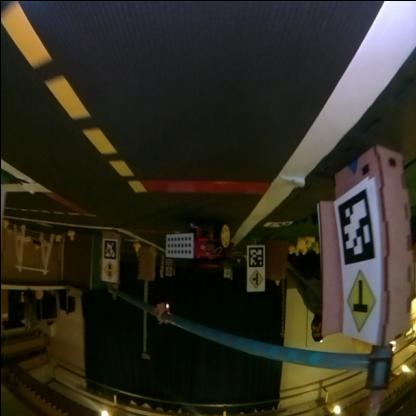Duckie: (304, 237, 314, 247), (296, 237, 303, 249), (66, 231, 74, 240), (286, 246, 292, 254), (292, 248, 298, 256), (132, 244, 138, 250), (274, 279, 278, 286)
Duckiebot: (164, 222, 231, 266)
Intersection sign: (342, 270, 377, 336), (246, 270, 262, 290)
QR code: (337, 184, 373, 268), (245, 245, 262, 267), (101, 239, 115, 258), (264, 222, 290, 228)
Signal sign: (101, 262, 116, 280)
Traffic light: (156, 301, 168, 322)
